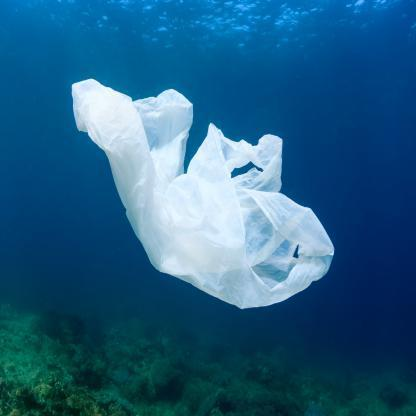Rác: (58, 57, 340, 313)
